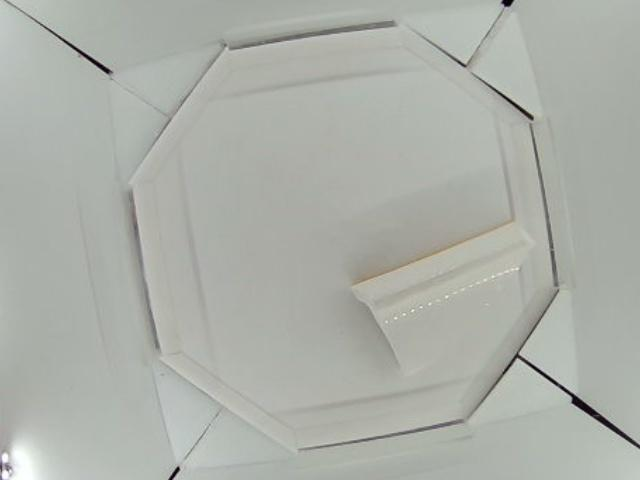China: (354, 223, 536, 373)
